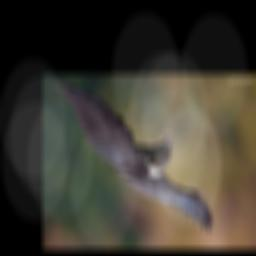Crow: (54, 79, 214, 235)
